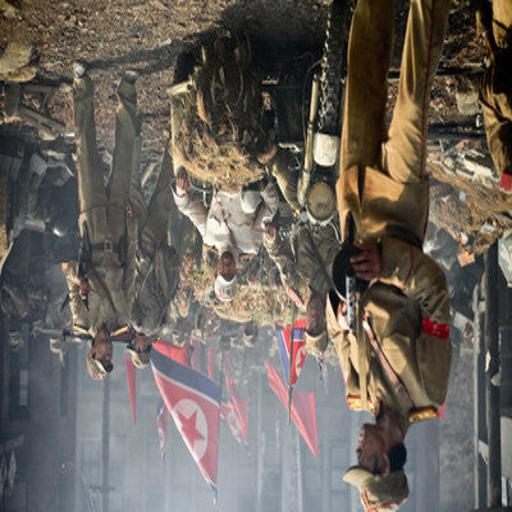north army: (322, 4, 450, 505), (57, 62, 179, 369)
